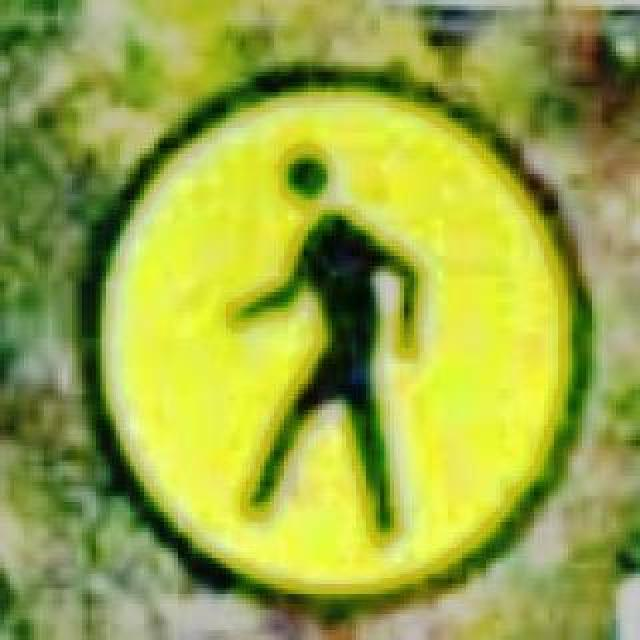pedestrian crossing: (72, 52, 592, 620)
